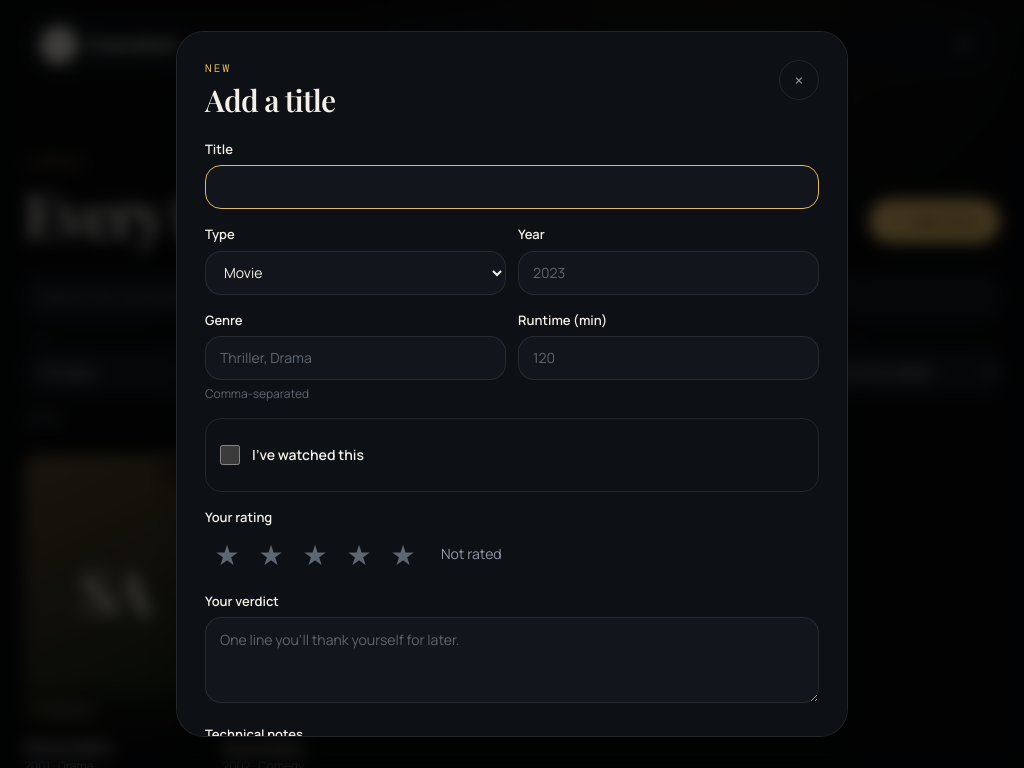
Test case: role refresh during a live session › a write the server refuses as forbidden makes the app re-read the role and become a viewer
In the field labelled "Title": (512, 187) 205,165 -> 819,209, type "Late Night Idea"
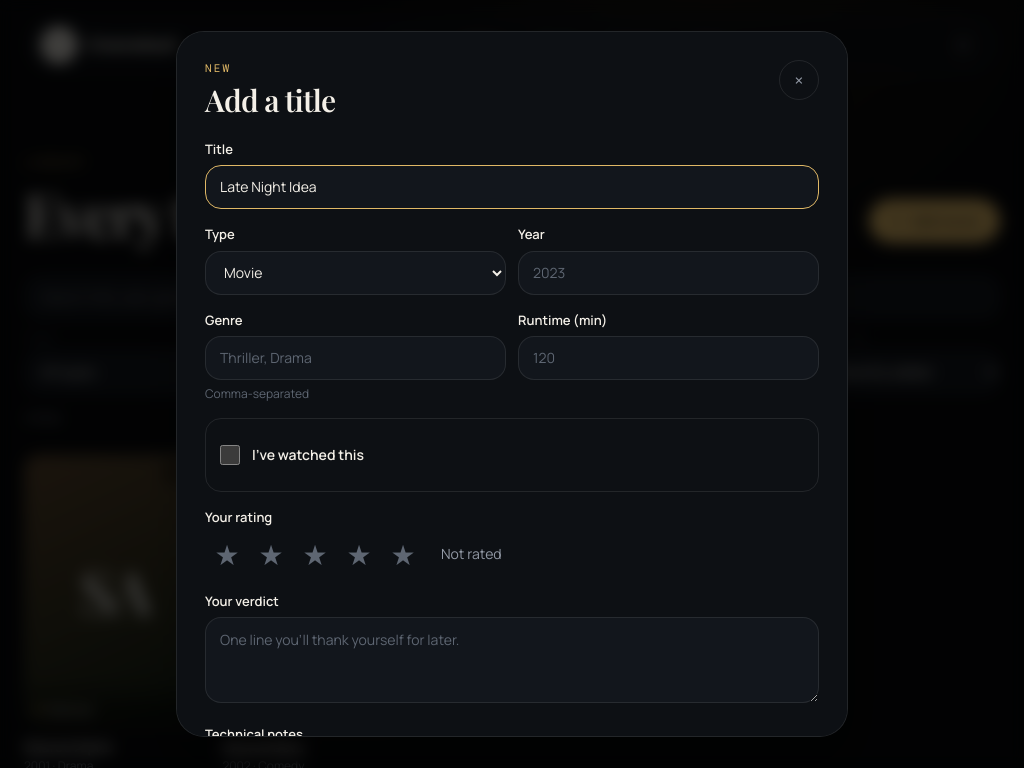
In the number field labelled "Year": (668, 273) 518,251 -> 819,295, type "2024"
(page scrolled)
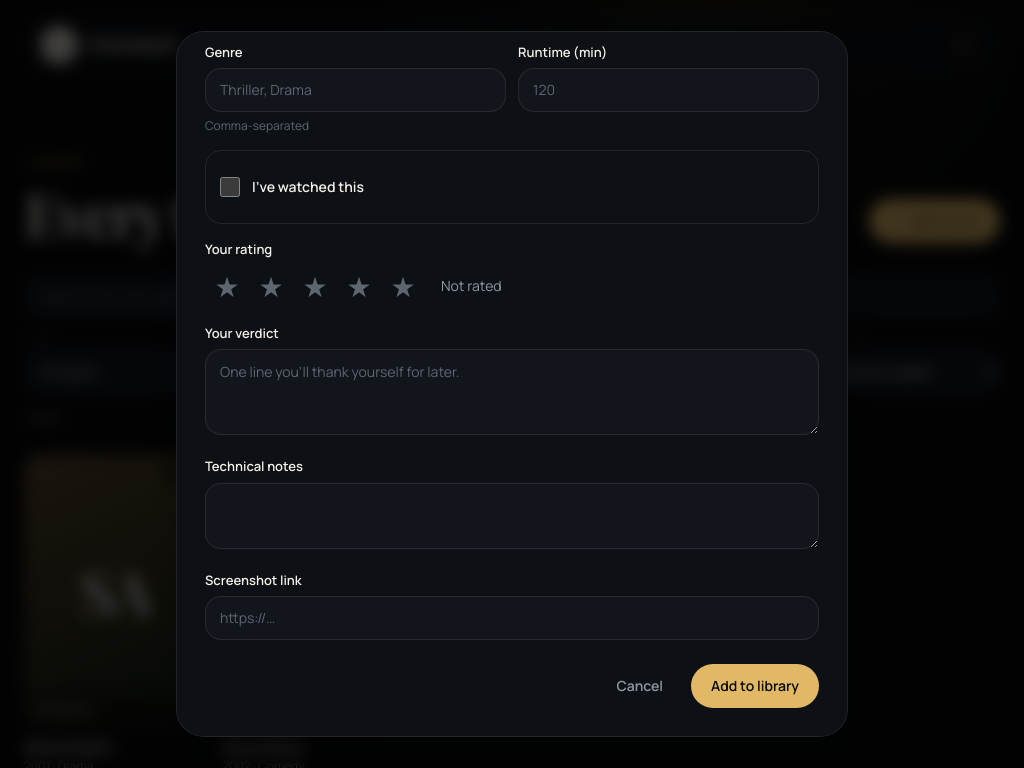
Click the button "Add to library": click(755, 686) 691,664 -> 819,708
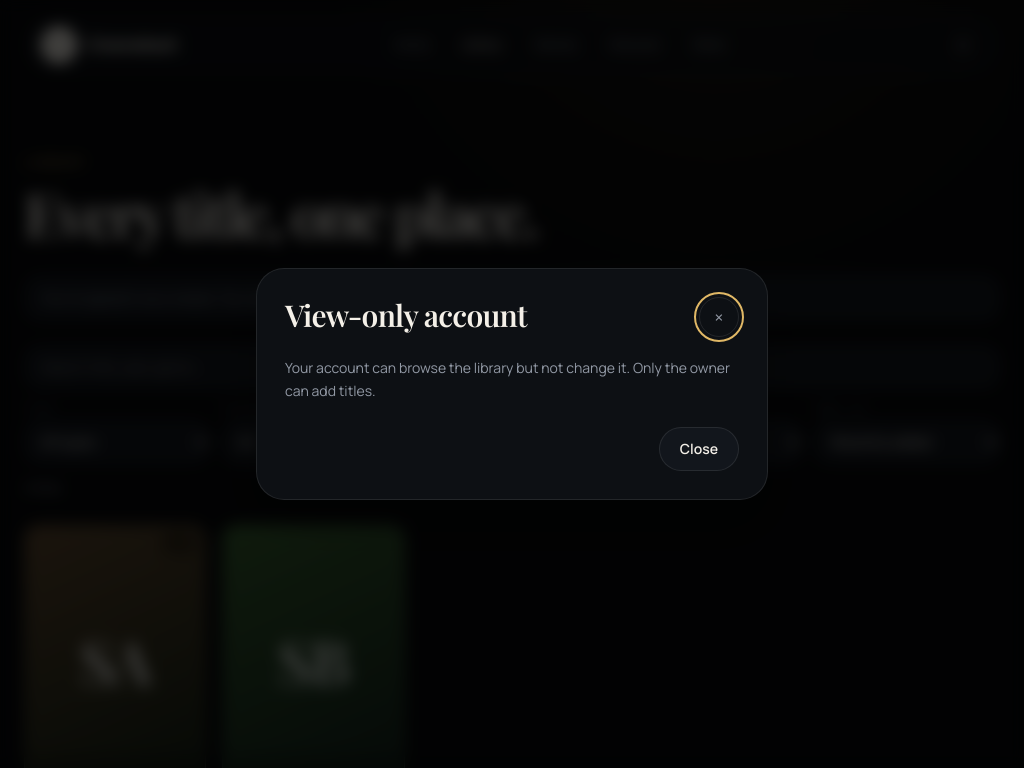
Expected: the heading "View-only account" is shown, 285,297 -> 527,335
